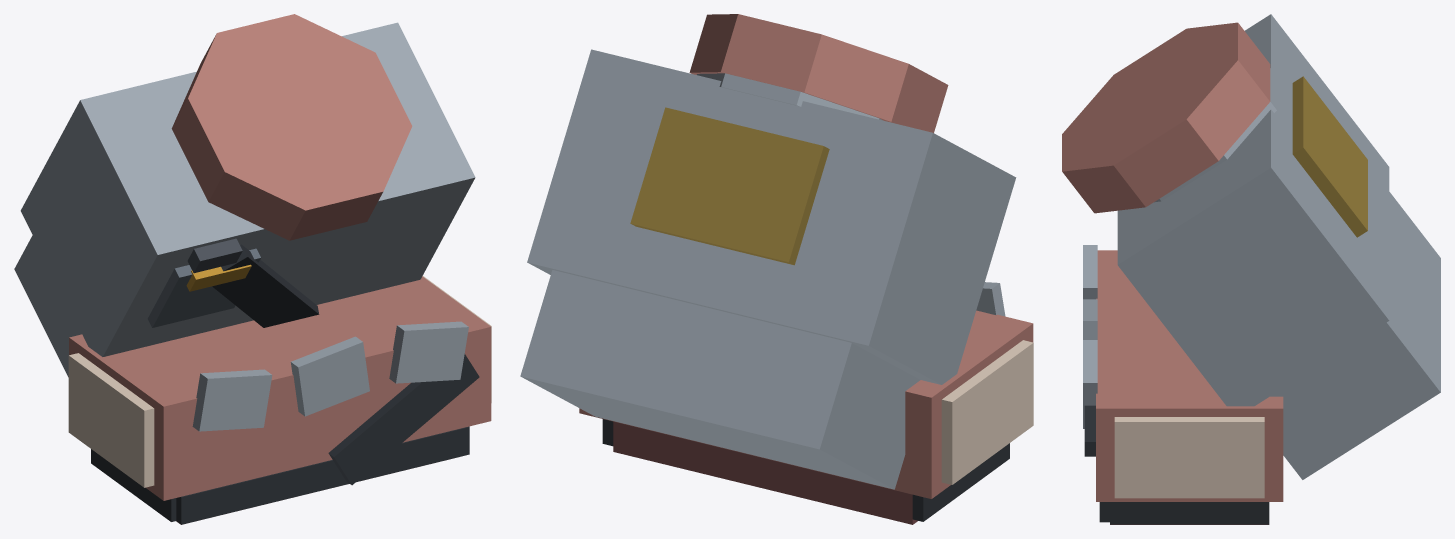
Rendered from inf_driver_upper_torso.fbx.
3 renders of one model, left to right at view 1: azimuth 30°, elevation 25°; view 2: azimuth 150°, elevation 25°; view 3: azimuth 270°, elevation 25°, orthographic. The views are drawn at different scales.
Visible parts, largest first — view 1: inf_driver_upper_torso; view 2: inf_driver_upper_torso; view 3: inf_driver_upper_torso.
Boxes of the visible parts, <box> form: inf_driver_upper_torso: <box>14,14,491,524</box>; inf_driver_upper_torso: <box>520,14,1033,524</box>; inf_driver_upper_torso: <box>1062,14,1440,524</box>.
Size of the model in its own units: 212 by 245 by 202.
